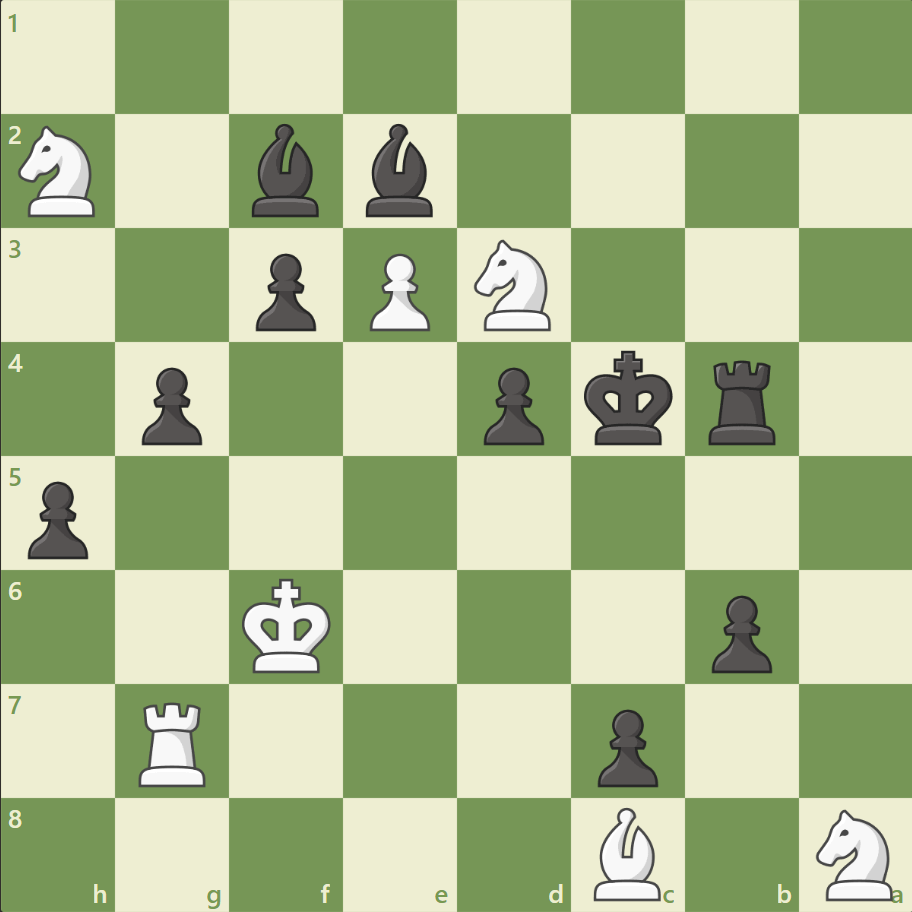B: (585, 801, 669, 904)
K: (238, 571, 338, 679)
N: (465, 234, 562, 337), (806, 802, 903, 904), (11, 121, 108, 223)
P: (361, 246, 435, 337)
R: (133, 693, 215, 790)
b: (358, 120, 442, 222), (244, 120, 328, 222)
k: (579, 344, 679, 452)
p: (701, 586, 776, 677), (20, 473, 95, 564), (474, 359, 549, 450), (133, 359, 208, 450), (247, 246, 322, 337), (588, 700, 662, 791)
r: (700, 352, 783, 449)
